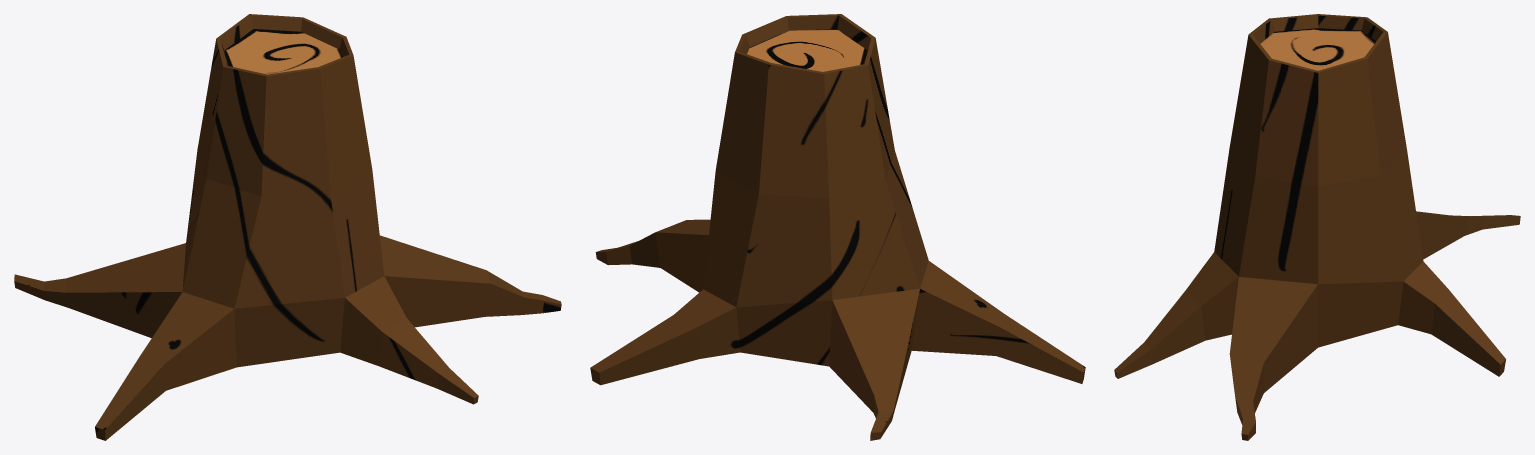
Rendered from SM_TreeStump_Tall.fbx.
3 renders of one model, left to right at view 1: azimuth 30°, elevation 25°; view 2: azimuth 150°, elevation 25°; view 3: azimuth 270°, elevation 25°, orthographic. The views are drawn at different scales.
Parts seen in each view (by area): view 1: SM_TreeStump_Tall; view 2: SM_TreeStump_Tall; view 3: SM_TreeStump_Tall.
Boxes of the visible parts, box(x1,y1,x2,y2) form: SM_TreeStump_Tall: box(14, 14, 561, 440); SM_TreeStump_Tall: box(590, 14, 1085, 440); SM_TreeStump_Tall: box(1114, 14, 1520, 440).
Bounding box in the file's own units: 16.89 × 12.87 × 10.69.
